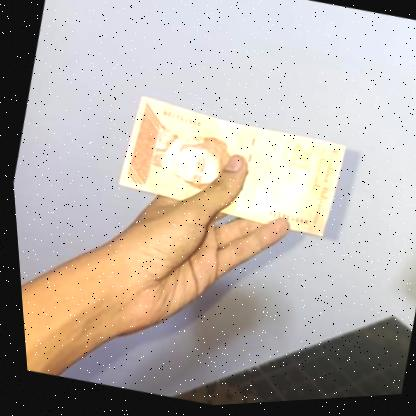twenty-front-vef: (107, 85, 353, 253)
